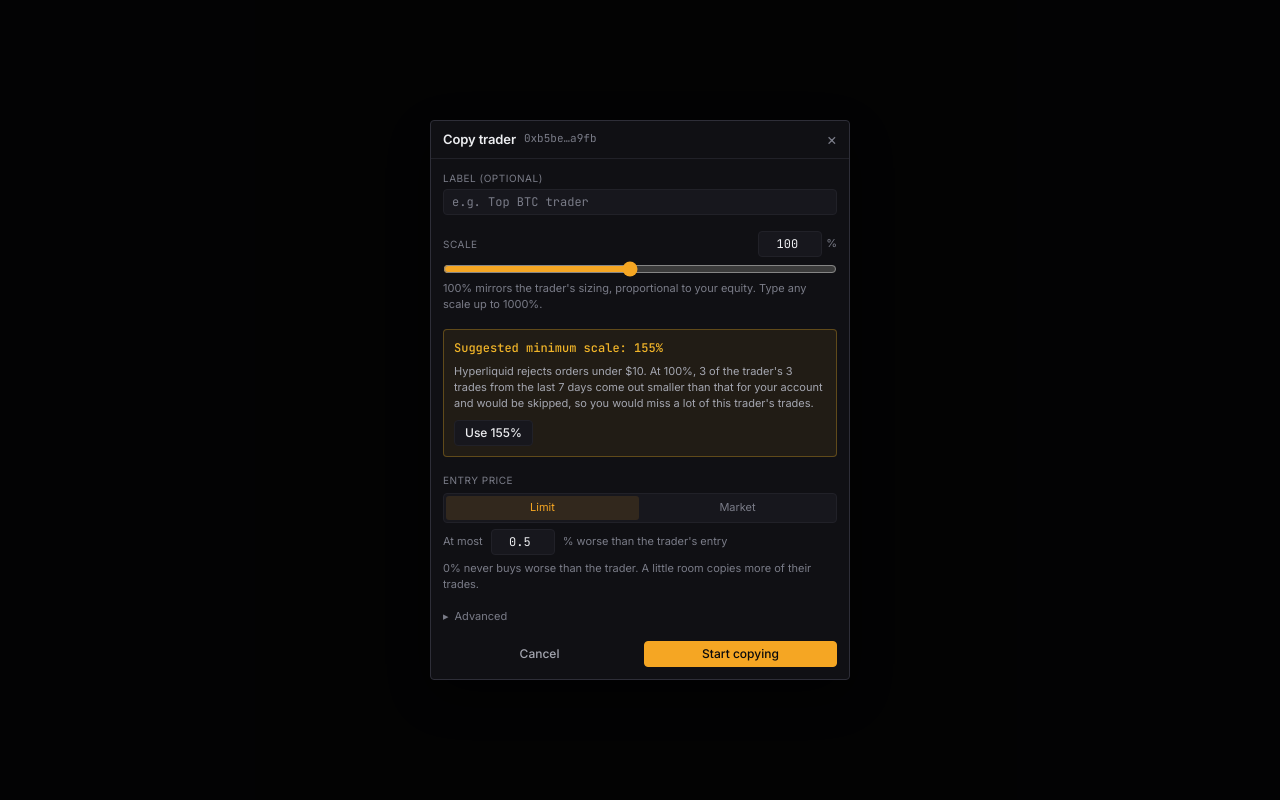
Scenario: CopyModal sizing check › takes a typed scale above the slider
Step 1. Replace the text in the number field labelled "Scale" with "400" → (790, 244), box [758,231,822,257]
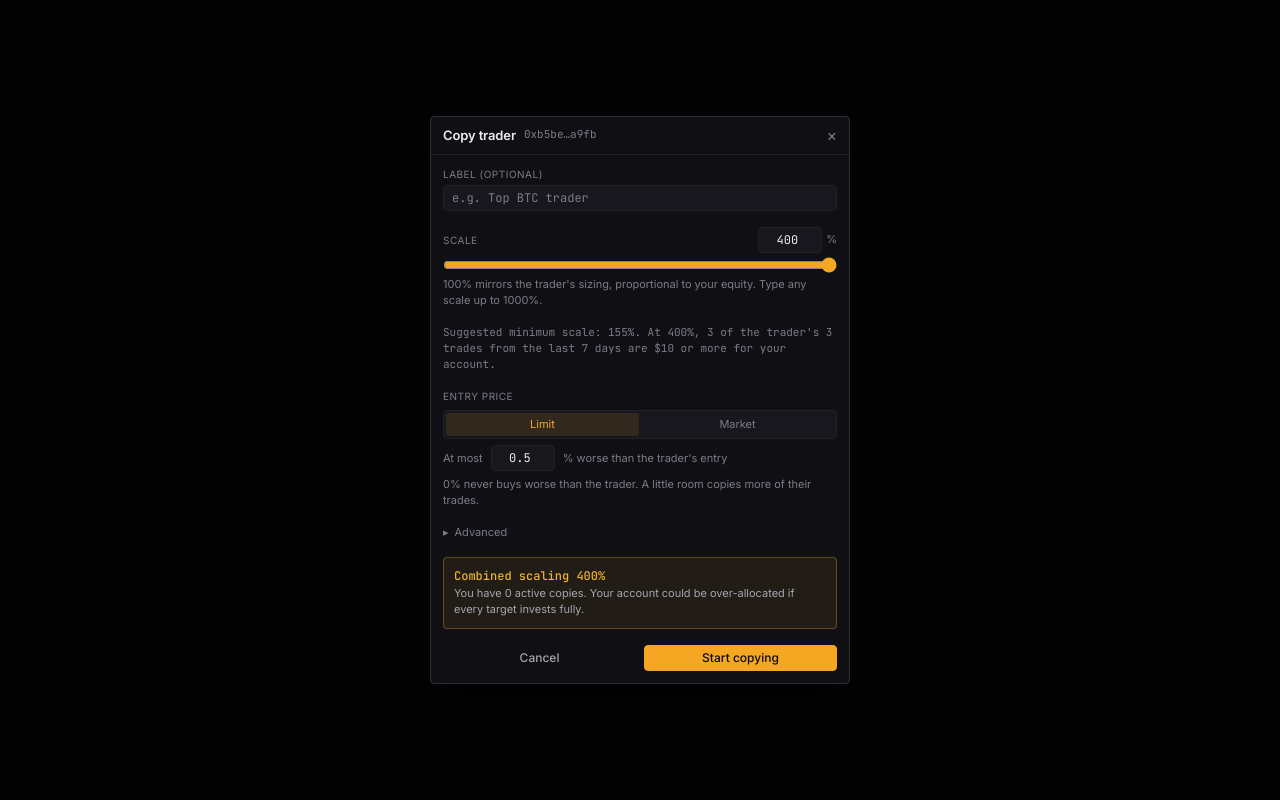
Expected: the text "Suggested minimum scale: 155%. At 400%" is shown, [443,325,837,373]
